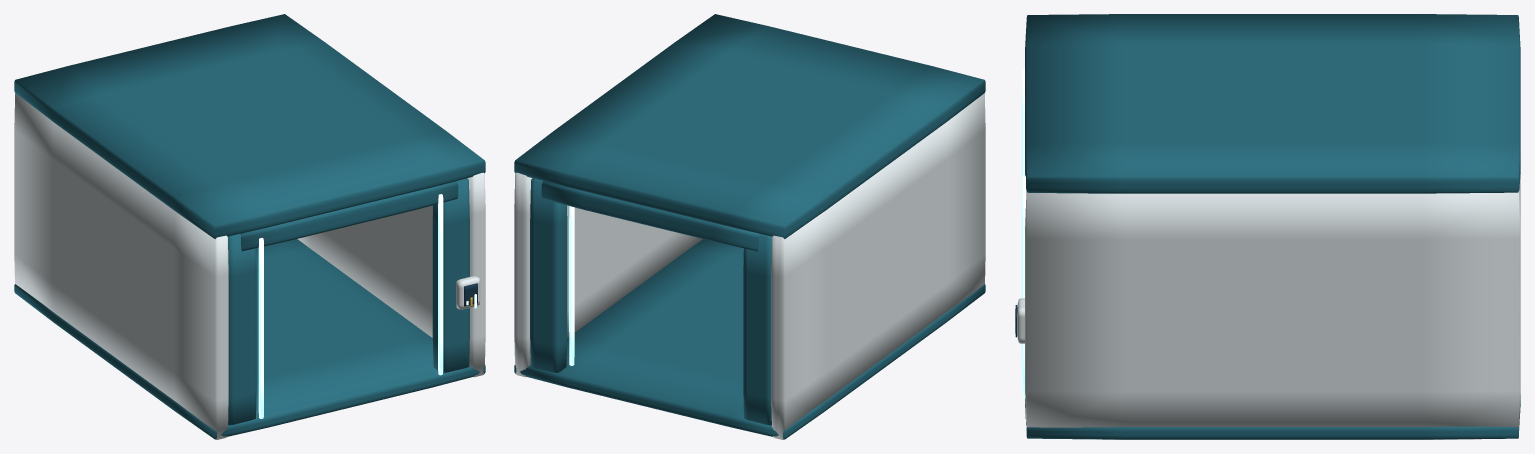
The model's file is esclusa-camara.glb.
3 views of the same model, side by side, from view 1: azimuth 30°, elevation 25°; view 2: azimuth 150°, elevation 25°; view 3: azimuth 270°, elevation 25° (orthographic). The views are drawn at different scales.
Visible parts, largest first — view 1: Petroleo, Blanco, Luz; view 2: Petroleo, Blanco, Luz; view 3: Blanco, Petroleo, Luz.
Part boxes in pixels (<box>): Petroleo: <box>14,14,485,439</box>; Blanco: <box>14,93,485,439</box>; Luz: <box>258,194,476,418</box>; Petroleo: <box>514,14,985,439</box>; Blanco: <box>514,93,985,439</box>; Luz: <box>569,206,574,365</box>; Blanco: <box>1017,175,1520,439</box>; Petroleo: <box>1025,14,1520,439</box>; Luz: <box>1014,69,1026,398</box>.
Size of the model in its own units: 4.5 by 3.42 by 5.88.
